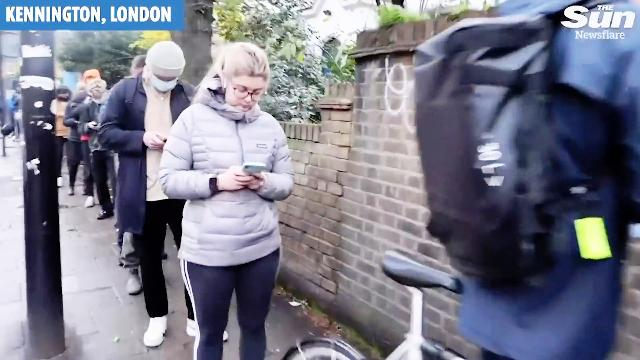berdiri: (160, 31, 296, 350), (104, 34, 228, 348)
